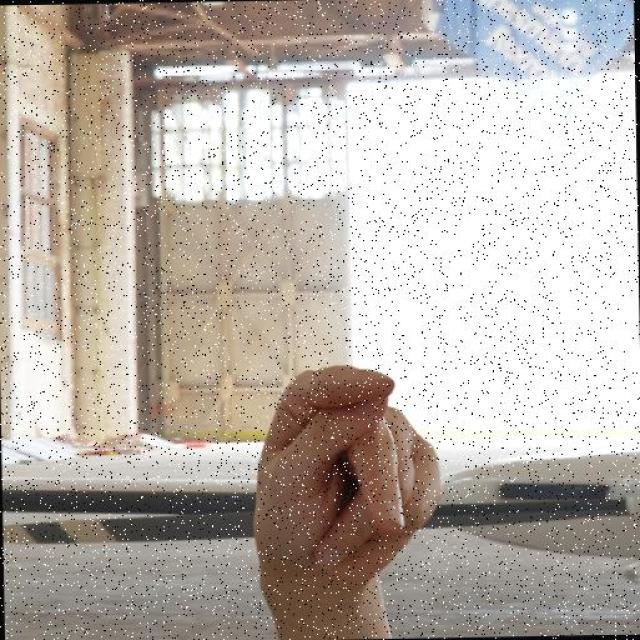P: (248, 360, 447, 598)
